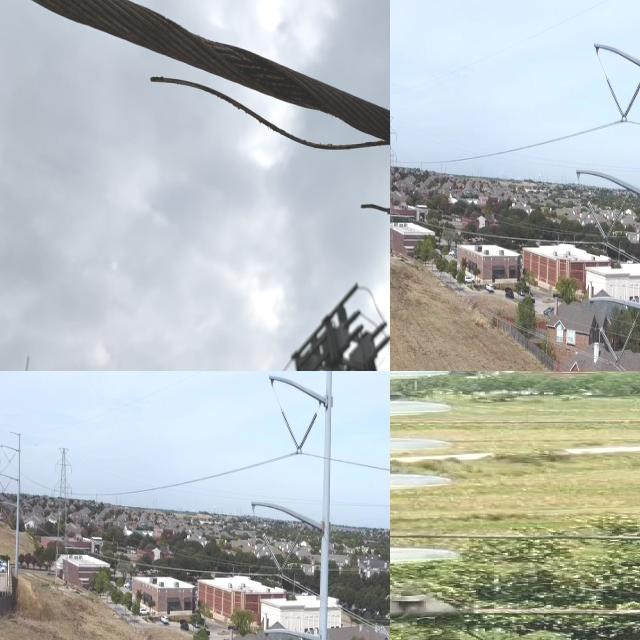杆塔: (50, 443, 74, 564), (390, 111, 399, 232)
正常绝缘子: (390, 371, 496, 616), (604, 198, 627, 244), (279, 530, 302, 576), (295, 411, 319, 454), (615, 320, 636, 368), (586, 197, 607, 243), (261, 529, 282, 575), (605, 75, 626, 119), (598, 324, 620, 366), (280, 407, 301, 451), (620, 79, 640, 122)
电缆破损: (121, 8, 390, 228)
